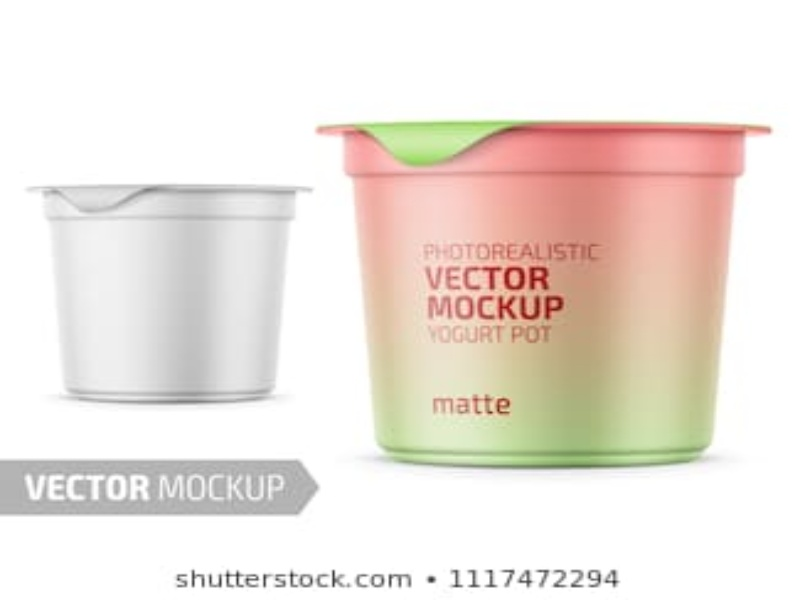yogurt-cup: (316, 116, 774, 468), (24, 173, 315, 404)
